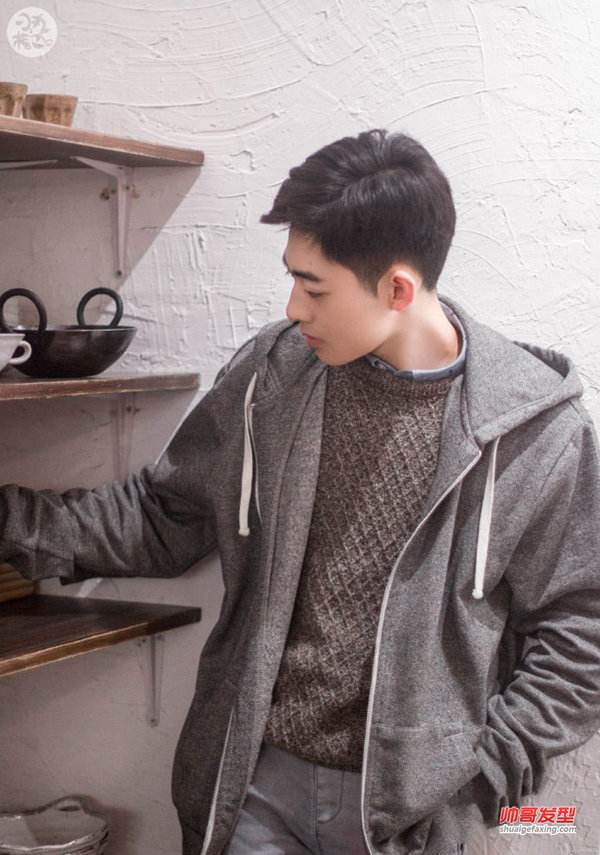person: (112, 97, 564, 855)
